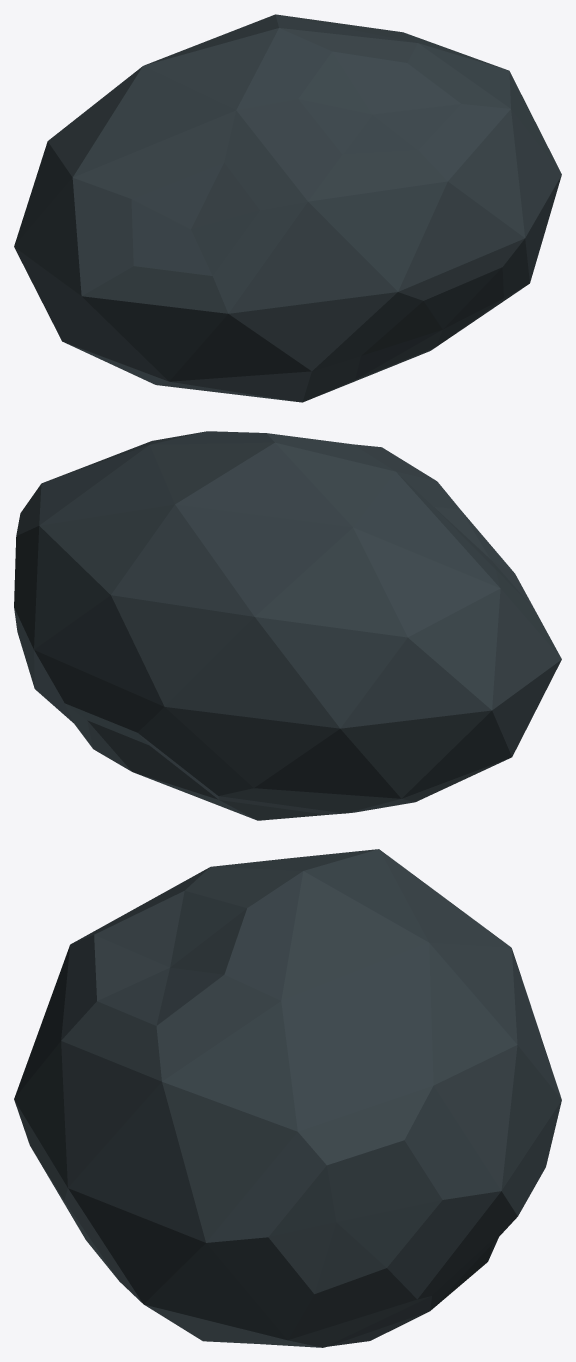
The model's file is Asteroide 1.fbx.
3 renders of one model, top to bottom at view 1: azimuth 30°, elevation 25°; view 2: azimuth 150°, elevation 25°; view 3: azimuth 270°, elevation 25°, orthographic. The views are drawn at different scales.
Parts seen in each view (by area): view 1: Icosphere.006; view 2: Icosphere.006; view 3: Icosphere.006.
Part boxes in pixels (box(x1,y1,x2,y2)): Icosphere.006: box(14, 14, 561, 402); Icosphere.006: box(14, 431, 561, 820); Icosphere.006: box(14, 849, 561, 1347).
Bounding box in the file's own units: 361 × 246 × 281.
Materials: 1 (1 with a texture image).
